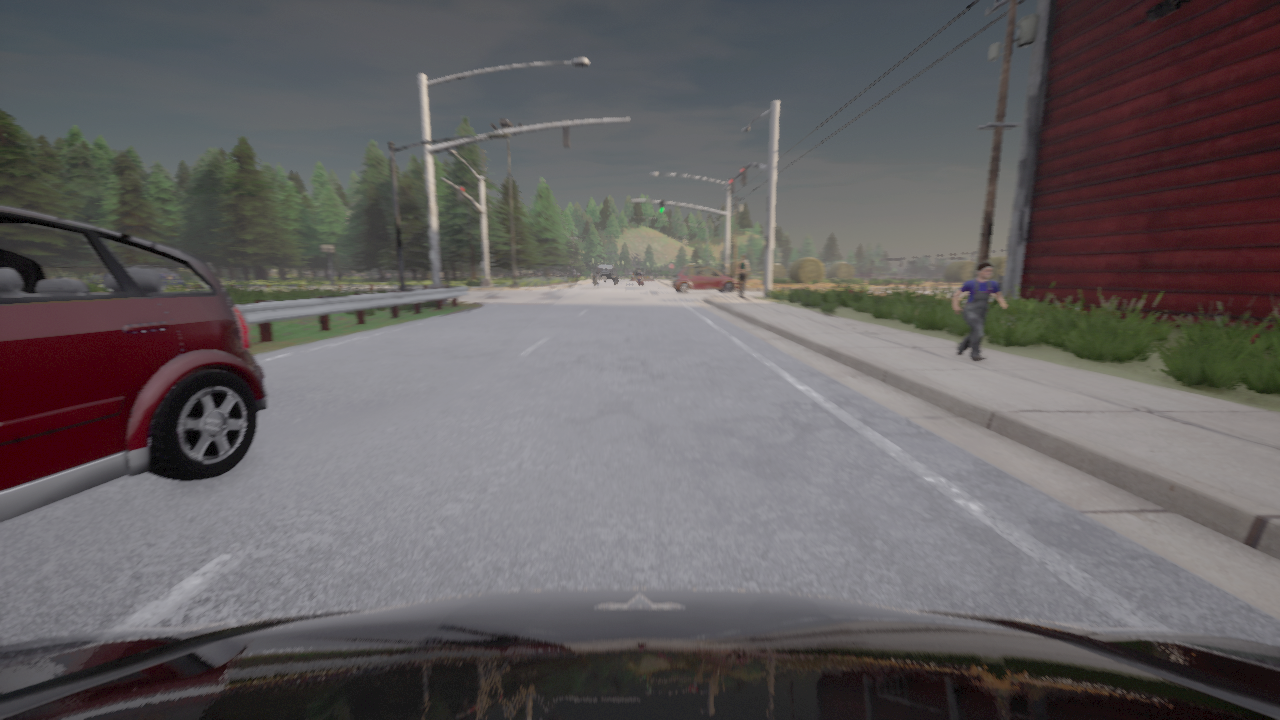cyclist: (0, 588, 1279, 719), (671, 266, 737, 293), (592, 264, 618, 284), (637, 273, 642, 283), (596, 274, 598, 284), (604, 280, 607, 282)
pedestrian: (954, 261, 1006, 361), (736, 254, 748, 296)
